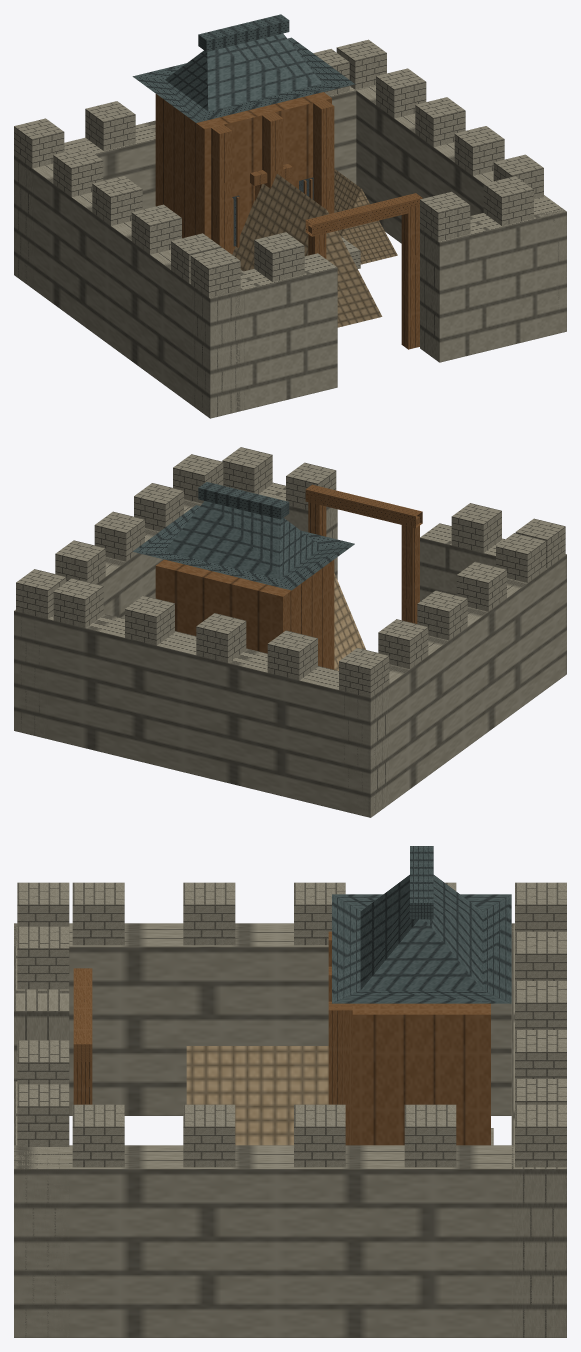
The model's file is military-FORTRESS-1-lod0.glb.
3 views of the same model, one above another, from view 1: azimuth 30°, elevation 25°; view 2: azimuth 150°, elevation 25°; view 3: azimuth 270°, elevation 25° (orthographic). The views are drawn at different scales.
Size of the model in its own units: 0.84 by 0.544 by 0.8.
Materials: 1 (1 with a texture image).
